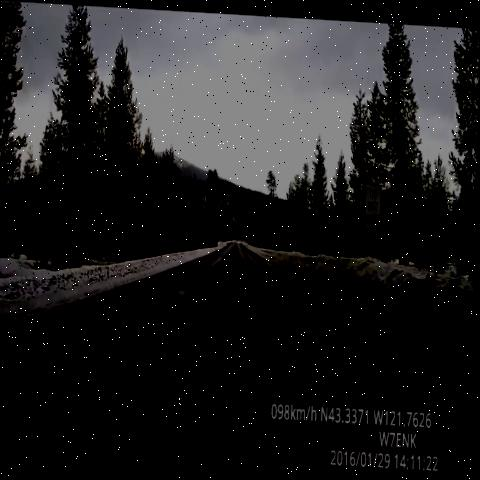pothole: (122, 326, 162, 383), (185, 262, 216, 300), (255, 252, 284, 291), (159, 301, 176, 334)
